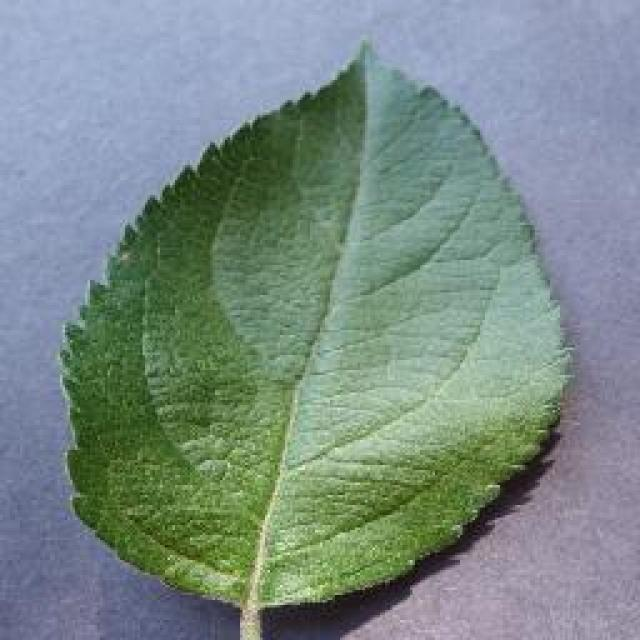apple healthy: (55, 35, 575, 637)
